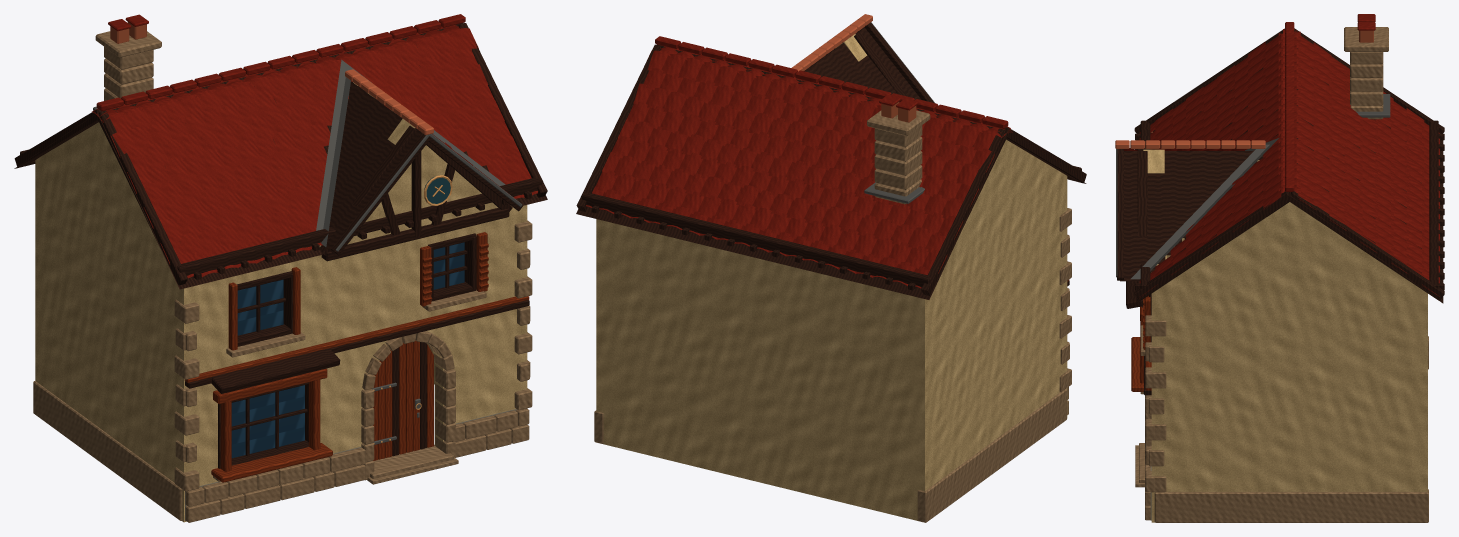
File: town-gate-merchant-house.glb
The picture shows the model from 3 angles, left to right: view 1: azimuth 30°, elevation 25°; view 2: azimuth 150°, elevation 25°; view 3: azimuth 270°, elevation 25°; orthographic projection. The views are drawn at different scales.
Visible parts, largest first — view 1: town-gate-merchant-house; view 2: town-gate-merchant-house; view 3: town-gate-merchant-house.
Part boxes in pixels (box(x1,y1,x2,y2)): town-gate-merchant-house: box(14, 14, 547, 522); town-gate-merchant-house: box(576, 14, 1086, 522); town-gate-merchant-house: box(1115, 14, 1444, 522).
Bounding box in the file's own units: 7.74 × 8.05 × 6.44.
Materials: 14 (6 with a texture image).
